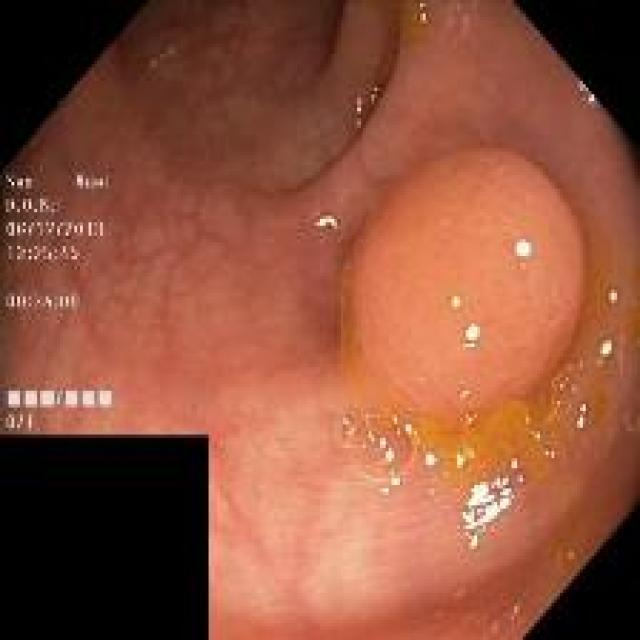Polyps: (339, 149, 585, 425)
